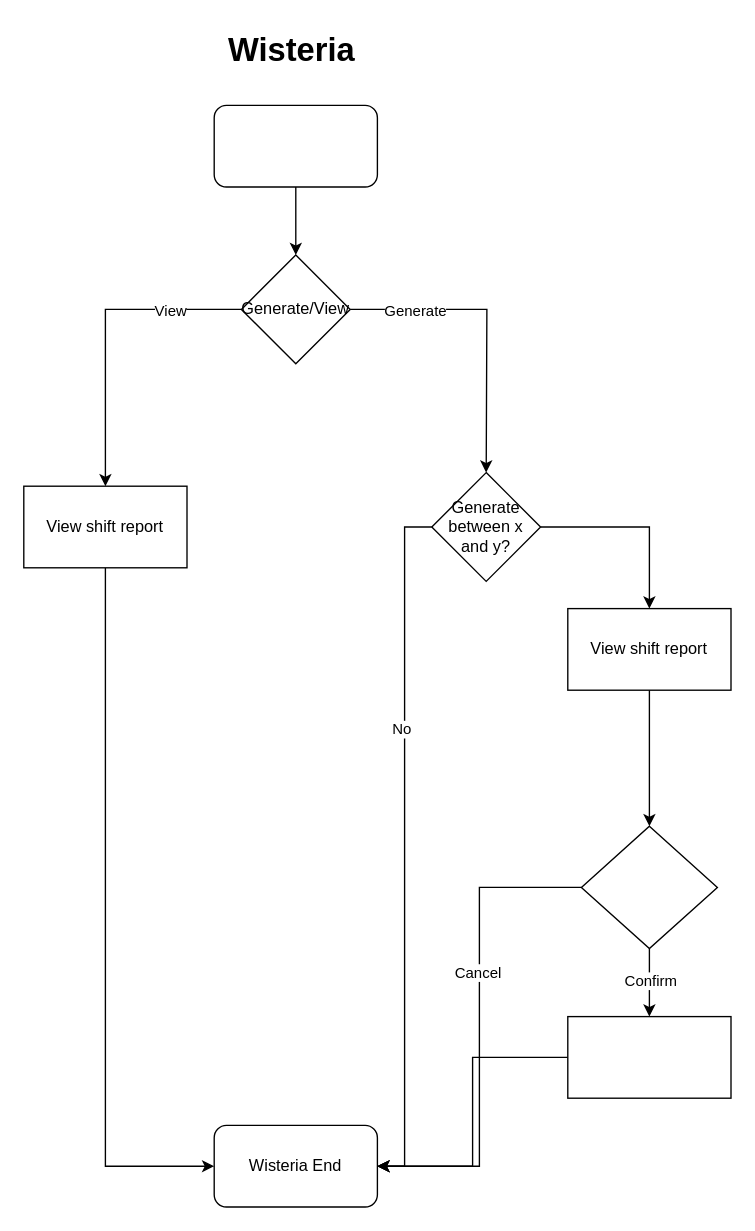
This 755x1231 diagram has some shape labels left out. Each missing label, with the centre of its shape:
Confirm shift report?: point 648,887
Create shift report: point 648,1056
Wisteria Start: point 295,145
